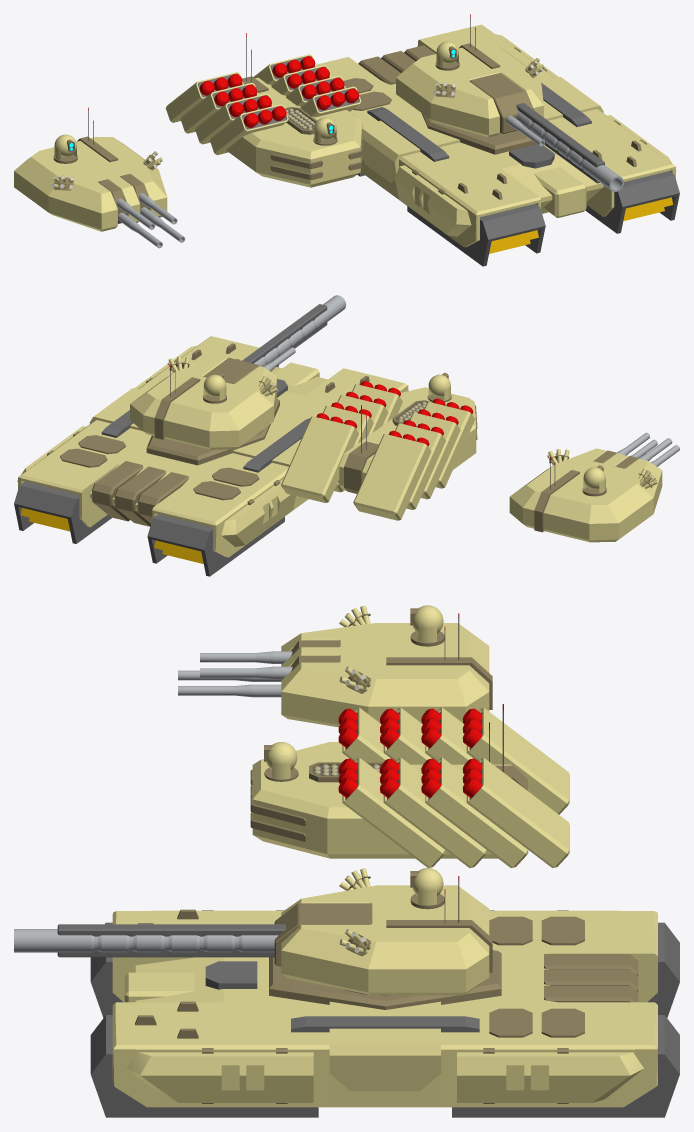
Rendered from ‘Gladiator’ Battle Tank.fbx.
3 renders of one model, top to bottom at view 1: azimuth 30°, elevation 25°; view 2: azimuth 150°, elevation 25°; view 3: azimuth 270°, elevation 25°, orthographic. The views are drawn at different scales.
Visible parts, largest first — view 1: pCube8, pCube51, pCube50, pCube77, pCube21, pCube18, pCube31, pCube9, pCube40, pCube4, pCylinder8, pCylinder1 (+17 smaller); view 2: pCube8, pCube51, pCube50, pCube76, pCube70, pCube19, pCube20, pCube32, pCube77, pCube21, pCylinder8, pCube7 (×2) (+20 smaller); view 3: pCube8, pCube50, pCube51, pCube77, pCube30, pCube33, pCube21, pCube70, pCylinder1, pCube9, pCube20, pCube76 (+24 smaller).
Boxes of the visible parts, <box> form: pCube8: <box>316,24,675,247</box>; pCube51: <box>14,137,167,231</box>; pCube50: <box>396,43,543,137</box>; pCube77: <box>226,77,362,187</box>; pCube21: <box>362,77,603,182</box>; pCube18: <box>407,204,545,266</box>; pCube31: <box>395,165,471,236</box>; pCube9: <box>585,171,679,233</box>; pCube40: <box>534,167,586,217</box>; pCube4: <box>469,73,533,133</box>; pCylinder8: <box>421,113,536,154</box>; pCylinder1: <box>517,111,623,191</box>; pCube8: <box>18,336,408,557</box>; pCube51: <box>509,448,662,542</box>; pCube50: <box>130,357,277,449</box>; pCube76: <box>353,434,431,520</box>; pCube70: <box>281,416,358,502</box>; pCube19: <box>147,514,284,576</box>; pCube20: <box>14,481,111,543</box>; pCube32: <box>221,479,295,546</box>; pCube77: <box>338,387,476,490</box>; pCube21: <box>89,388,300,466</box>; pCylinder8: <box>146,399,279,465</box>; pCube7 (×2): <box>154,377,579,532</box>; pCube8: <box>112,911,657,1107</box>; pCube50: <box>281,885,489,995</box>; pCube51: <box>281,623,489,727</box>; pCube77: <box>252,742,511,858</box>; pCube30: <box>127,1052,313,1102</box>; pCube33: <box>457,1052,643,1102</box>; pCube21: <box>329,1001,440,1091</box>; pCube70: <box>466,757,569,867</box>; pCylinder1: <box>14,929,278,952</box>; pCube9: <box>90,1015,318,1117</box>; pCube20: <box>452,1015,679,1117</box>; pCube76: <box>466,707,569,814</box>.
Bounding box in the file's own units: 42.99 × 11.52 × 32.16.
